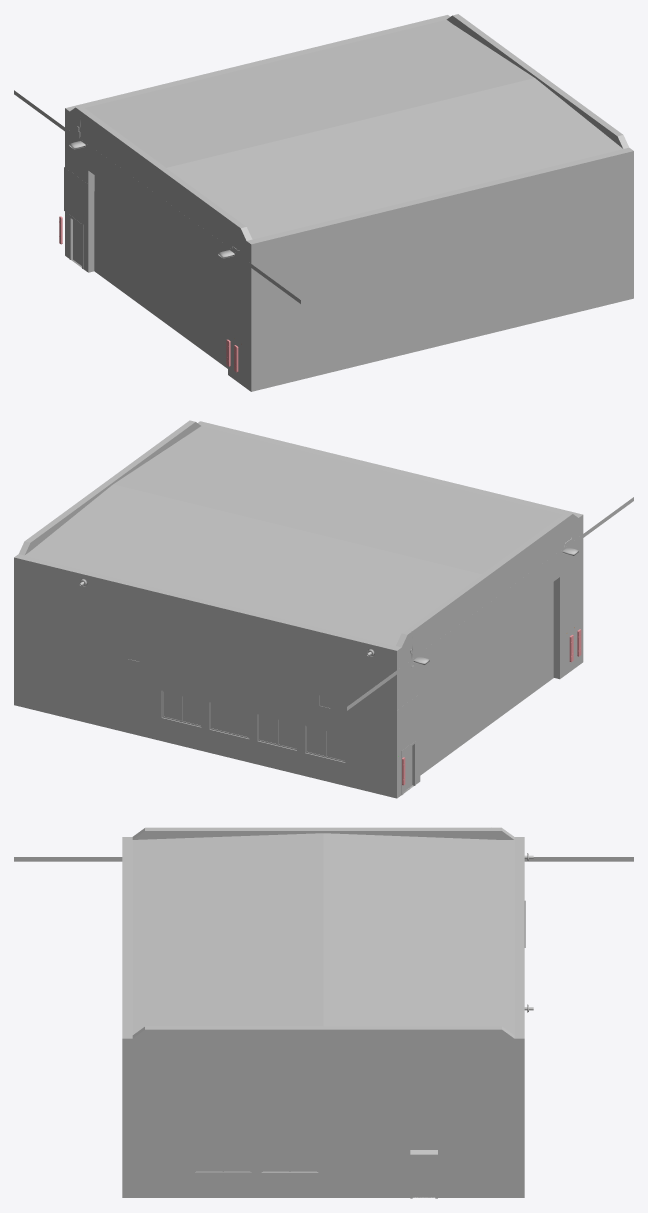
The model's file is enbg_hangar.gltf.
The picture shows the model from 3 angles, top to bottom: view 1: azimuth 30°, elevation 25°; view 2: azimuth 150°, elevation 25°; view 3: azimuth 270°, elevation 25°; orthographic projection. The views are drawn at different scales.
Visible parts, largest first — view 1: Hangar, Sign hangar, Sign-over-door; view 2: Hangar, Sign hangar, Sign-over-door; view 3: Hangar, Sign hangar.
Boxes of the visible parts, x1,y1,x2,y2 form: Hangar: (65, 14, 633, 391); Sign hangar: (14, 90, 300, 303); Sign-over-door: (64, 167, 88, 227); Hangar: (14, 420, 583, 798); Sign hangar: (346, 497, 633, 710); Sign-over-door: (397, 693, 420, 753); Hangar: (122, 827, 524, 1198); Sign hangar: (14, 857, 633, 861).
Size of the model in its own units: 19.89 by 7.42 by 24.67.
